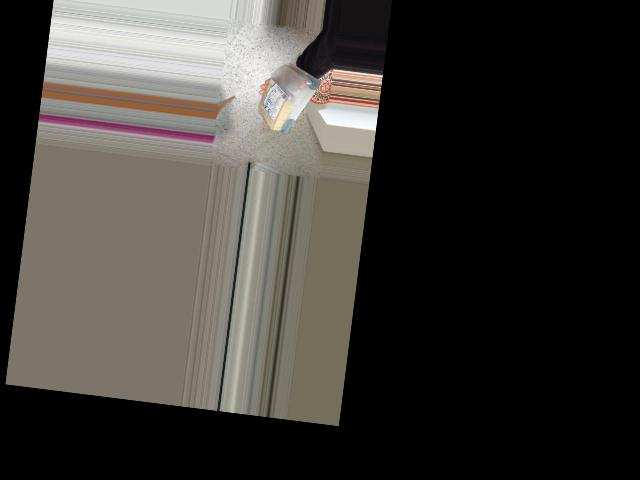cheese: (254, 49, 322, 140)
